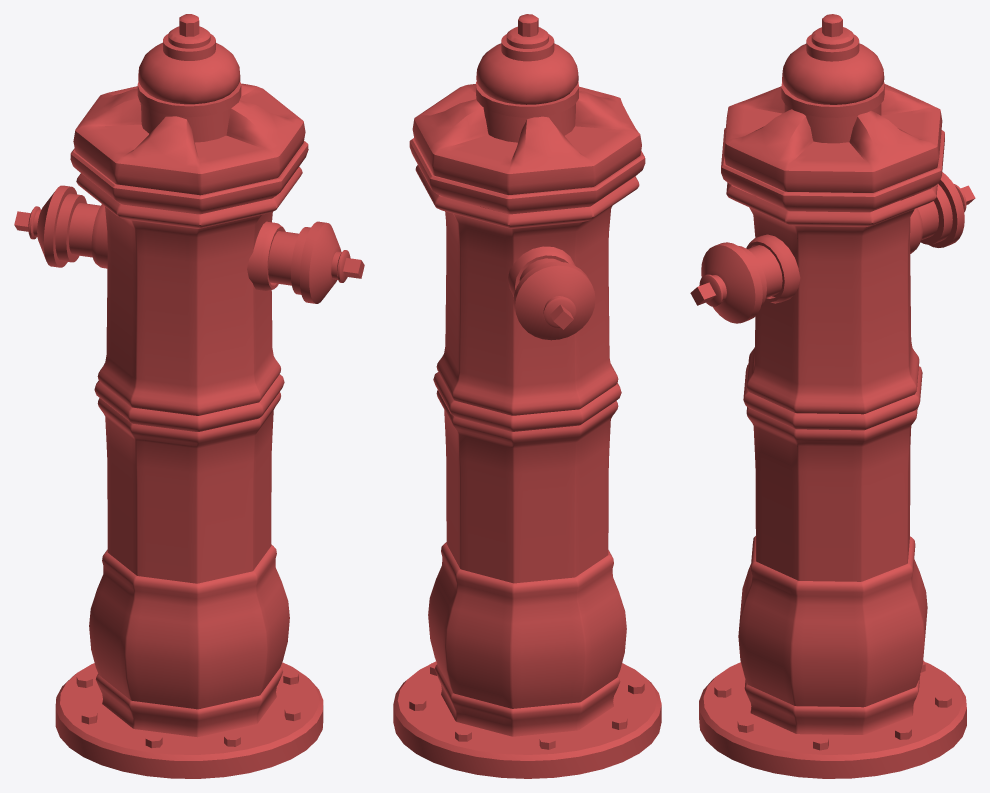
Rendered from XiaoFangShuan.gltf.
3 views of the same model, side by side, from view 1: azimuth 30°, elevation 25°; view 2: azimuth 150°, elevation 25°; view 3: azimuth 270°, elevation 25° (orthographic).
Parts seen in each view (by area): view 1: 4-15消防栓; view 2: 4-15消防栓; view 3: 4-15消防栓.
Boxes of the visible parts, x1,y1,x2,y2 form: 4-15消防栓: (14,14,364,778); 4-15消防栓: (393,14,661,778); 4-15消防栓: (690,14,975,778).
Bounding box in the file's own units: 16.73 × 48.59 × 17.82.
